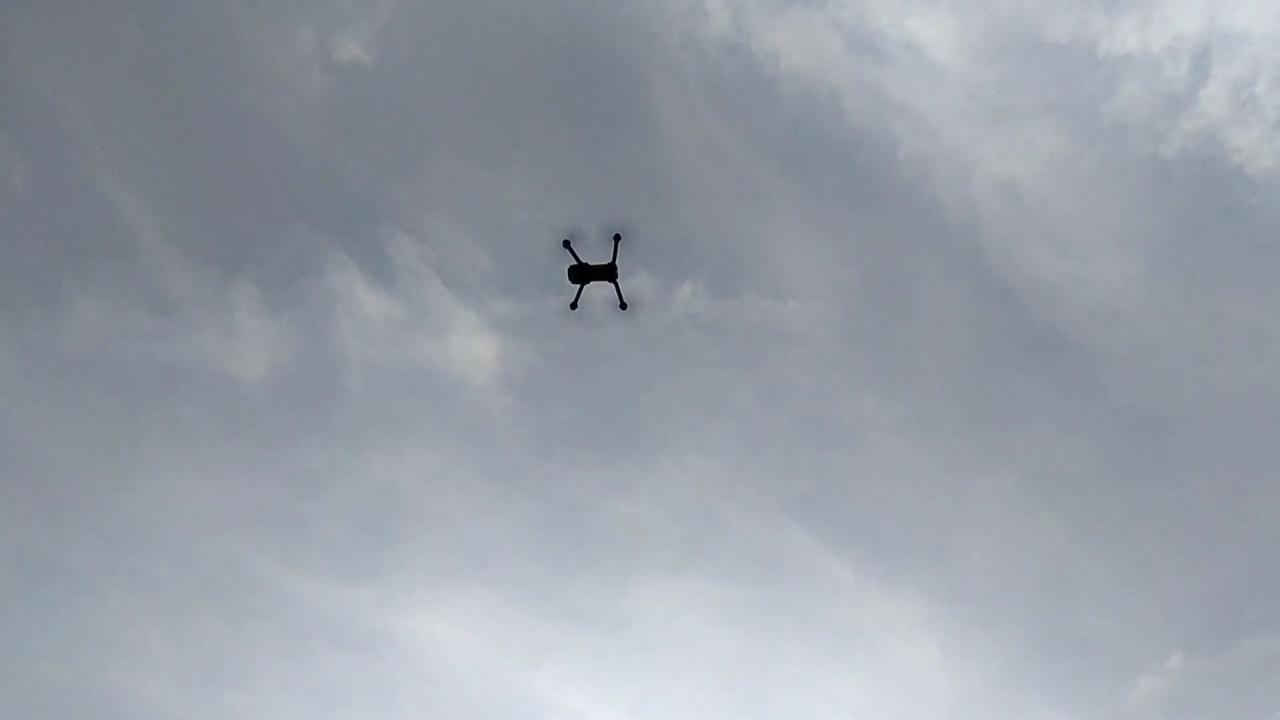Drone: (526, 206, 670, 337)
